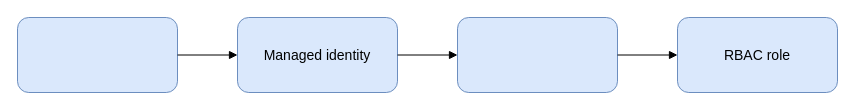
Some shapes in this 855 by 110 pixel diagram are drawn without their labels. The shapes that lost their labels are listed below. From the top down, each one's centre as x and y in pixels, then its label:
At pixel 97 54: "App Service".
At pixel 537 54: "Key Vault".
